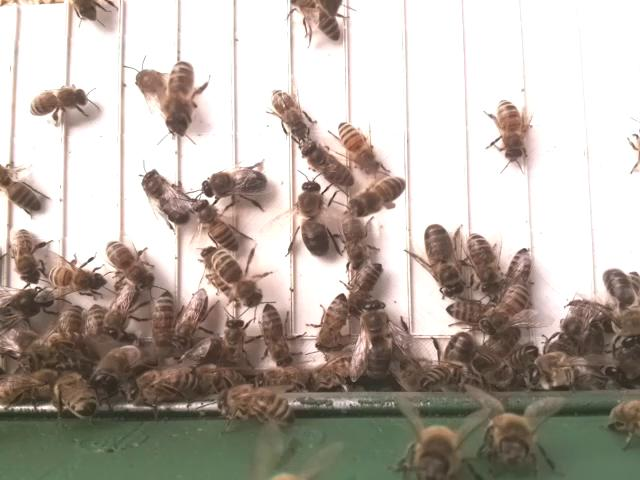Drone: (139, 166, 194, 228), (422, 222, 465, 299), (296, 175, 333, 259), (163, 56, 198, 140), (197, 165, 272, 202), (360, 298, 392, 380)
Worker: (211, 246, 261, 308), (479, 284, 532, 340), (192, 195, 242, 254), (335, 118, 383, 176), (349, 175, 408, 219), (105, 238, 154, 289), (300, 140, 353, 187), (466, 230, 502, 299), (344, 259, 386, 314), (496, 95, 530, 162), (269, 87, 311, 141), (0, 164, 44, 215), (340, 208, 374, 271), (26, 86, 91, 118), (262, 301, 293, 368), (314, 294, 348, 355), (177, 283, 211, 344), (442, 300, 499, 334), (10, 226, 42, 284), (149, 286, 177, 352), (45, 265, 106, 291)
